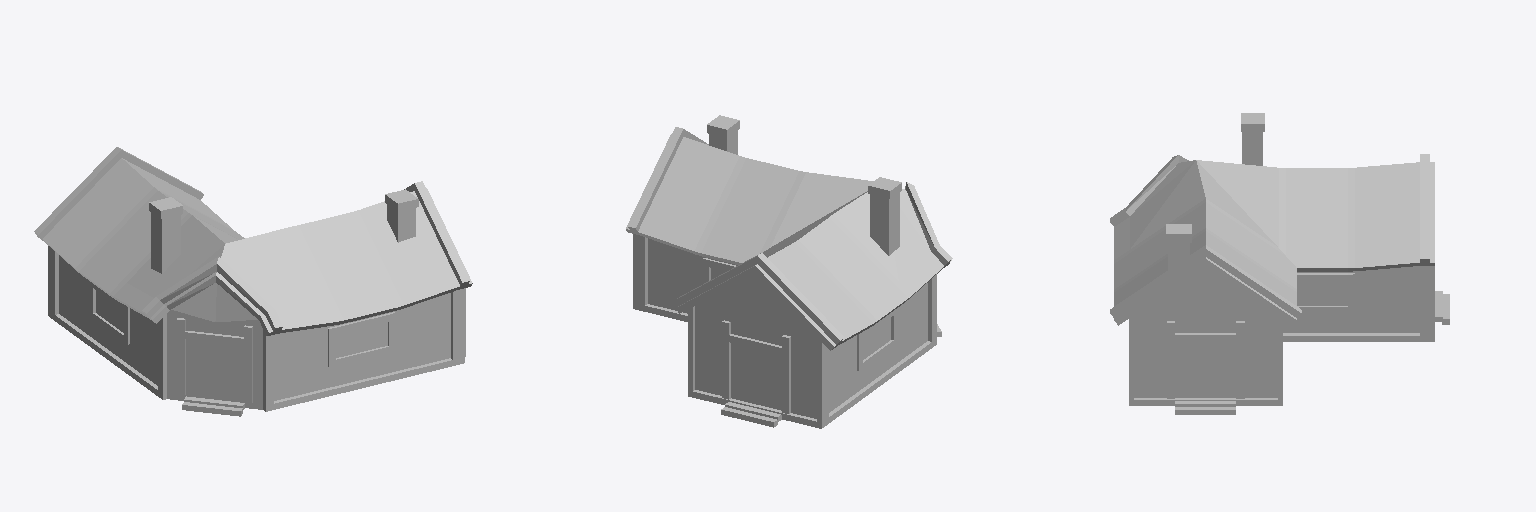
The model's file is house.obj.
3 views of the same model, side by side, from view 1: azimuth 30°, elevation 25°; view 2: azimuth 150°, elevation 25°; view 3: azimuth 270°, elevation 25° (orthographic).
Visible parts, largest first — view 1: House_2; view 2: House_2; view 3: House_2.
Boxes of the visible parts, x1,y1,x2,y2 form: House_2: [34, 147, 472, 416]; House_2: [626, 115, 952, 428]; House_2: [1110, 113, 1449, 414].
Size of the model in its own units: 868 by 492 by 868.